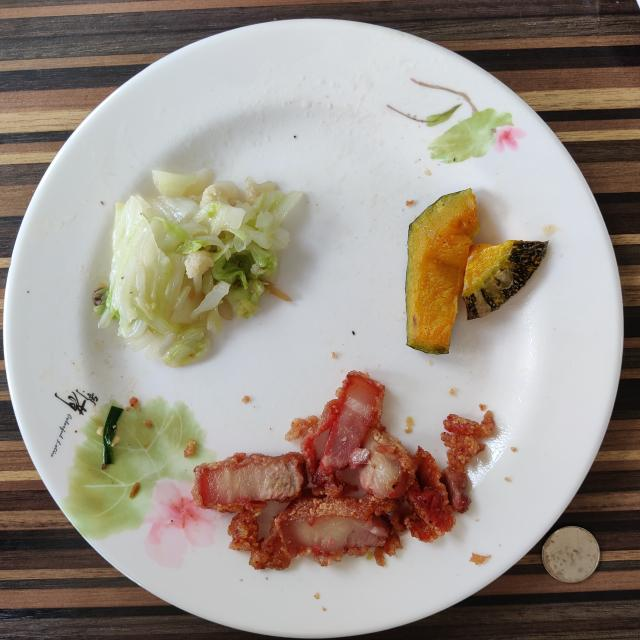cabbage: (92, 169, 302, 368)
coin: (541, 526, 600, 582)
pumpkin: (405, 189, 549, 354)
red grilled pork: (191, 371, 494, 570)
